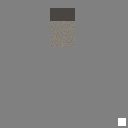supply_truck: (50, 8, 75, 47)
